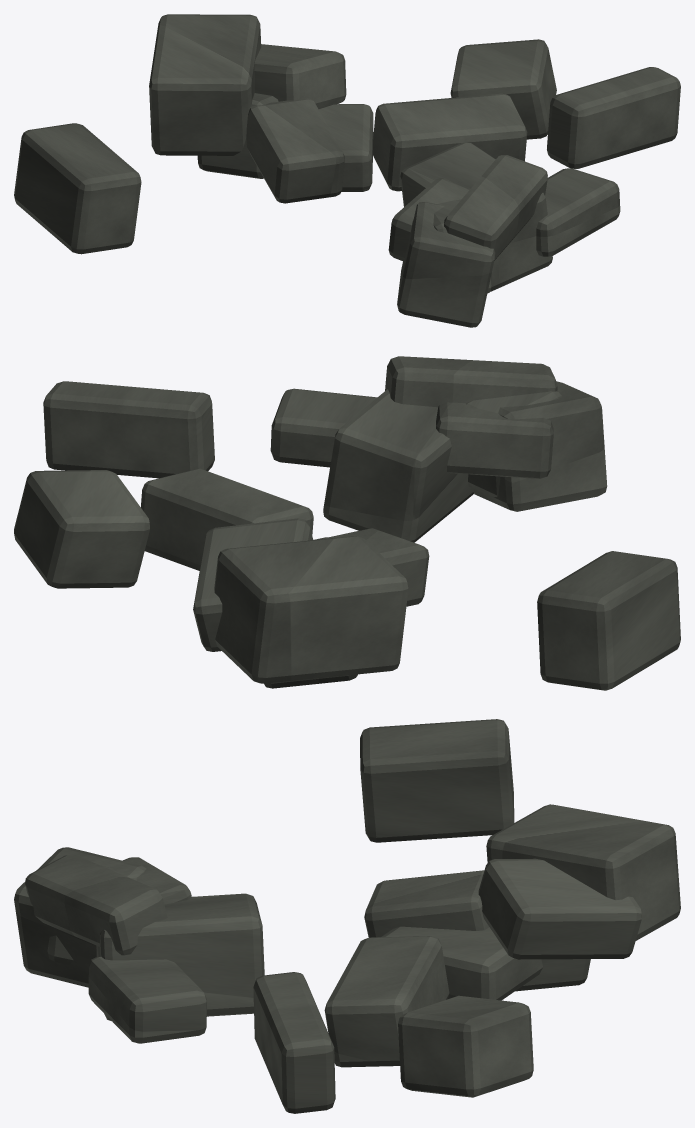
Rendered from rubble.glb.
The picture shows the model from 3 angles, top to bottom: view 1: azimuth 30°, elevation 25°; view 2: azimuth 150°, elevation 25°; view 3: azimuth 270°, elevation 25°; orthographic projection. The views are drawn at different scales.
Visible parts, largest first — view 1: Fractured_masonry.005, Fractured_masonry.006, Fractured_masonry.014, Fractured_masonry.009, Fractured_masonry.003, Fractured_masonry, Fractured_masonry.008, Fractured_masonry.004, Fractured_masonry.002, Fractured_masonry.013, Fractured_masonry.001, Fractured_masonry.007 (+3 smaller); view 2: Fractured_masonry.005, Fractured_masonry.006, Fractured_masonry.002, Fractured_masonry.014, Fractured_masonry.008, Fractured_masonry.009, Fractured_masonry.003, Fractured_masonry.012, Fractured_masonry.004, Fractured_masonry.013, Fractured_masonry.001, Fractured_masonry (+2 smaller); view 3: Fractured_masonry.006, Fractured_masonry.005, Fractured_masonry.001, Fractured_masonry.008, Fractured_masonry.009, Fractured_masonry.002, Fractured_masonry.014, Fractured_masonry.004, Fractured_masonry.013, Fractured_masonry, Fractured_masonry.007, Fractured_masonry.003 (+2 smaller).
Part boxes in pixels (x1,y1,x2,y2): Fractured_masonry.005: (149, 14, 261, 155); Fractured_masonry.006: (14, 123, 141, 254); Fractured_masonry.014: (547, 67, 680, 168); Fractured_masonry.009: (373, 93, 527, 191); Fractured_masonry.003: (397, 202, 495, 327); Fractured_masonry: (246, 98, 344, 203); Fractured_masonry.008: (450, 39, 556, 139); Fractured_masonry.004: (444, 155, 547, 260); Fractured_masonry.002: (400, 142, 552, 291); Fractured_masonry.013: (536, 168, 620, 256); Fractured_masonry.001: (254, 44, 346, 109); Fractured_masonry.007: (319, 104, 373, 191); Fractured_masonry.005: (214, 536, 408, 683); Fractured_masonry.006: (537, 551, 680, 690); Fractured_masonry.002: (323, 389, 473, 542); Fractured_masonry.014: (43, 381, 214, 478); Fractured_masonry.008: (14, 470, 149, 588); Fractured_masonry.009: (141, 468, 313, 570); Fractured_masonry.003: (473, 381, 607, 511); Fractured_masonry.012: (436, 402, 553, 478); Fractured_masonry.004: (385, 356, 557, 407); Fractured_masonry.013: (270, 388, 376, 467); Fractured_masonry.001: (193, 518, 313, 651); Fractured_masonry: (318, 528, 429, 606); Fractured_masonry.006: (360, 719, 514, 842); Fractured_masonry.005: (486, 804, 680, 940); Fractured_masonry.001: (478, 858, 641, 959); Fractured_masonry.008: (398, 995, 533, 1097); Fractured_masonry.009: (324, 936, 449, 1067); Fractured_masonry.002: (96, 893, 264, 1021); Fractured_masonry.014: (253, 972, 335, 1113); Fractured_masonry.004: (25, 854, 167, 955); Fractured_masonry.013: (88, 956, 206, 1043); Fractured_masonry: (364, 870, 488, 937); Fractured_masonry.007: (381, 926, 542, 1000); Fractured_masonry.003: (14, 847, 146, 987).
Size of the model in its own units: 1.77 by 0.3666 by 1.57.
Materials: 1 (1 with a texture image).
